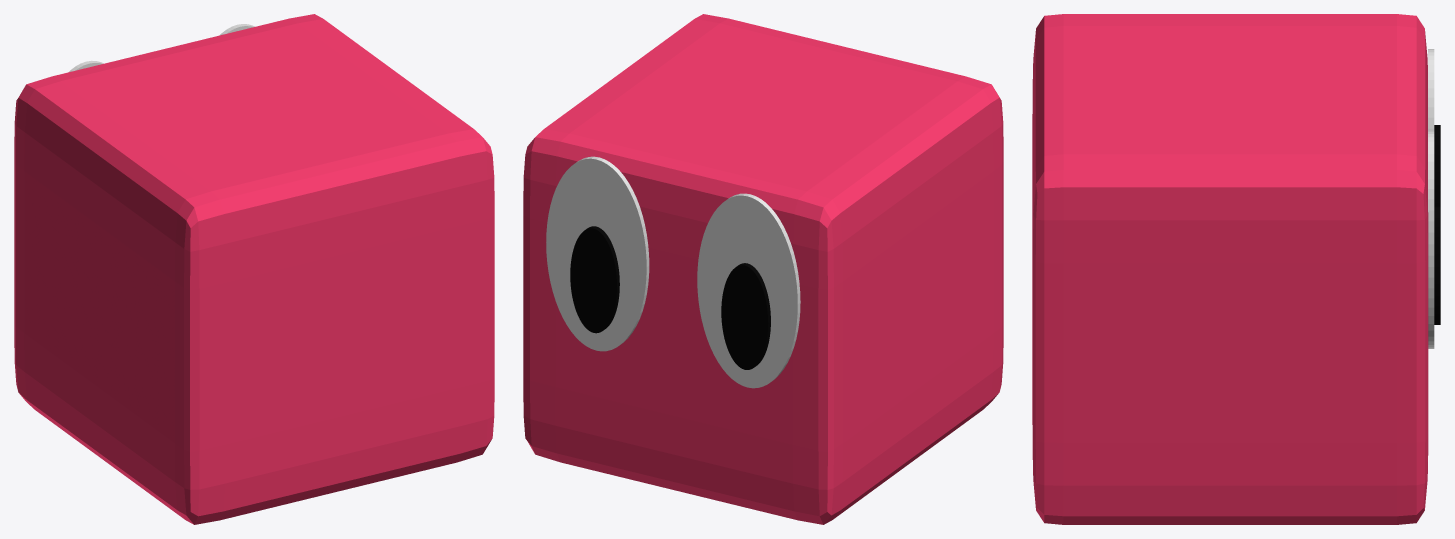
File: player-pink.glb
3 views of the same model, side by side, from view 1: azimuth 30°, elevation 25°; view 2: azimuth 150°, elevation 25°; view 3: azimuth 270°, elevation 25° (orthographic). The views are drawn at different scales.
Parts seen in each view (by area): view 1: player-body; view 2: player-body, player-eye-right-white, player-eye-right-white.001, player-eye-right-black, player-eye-right-black.001; view 3: player-body, player-eye-right-white, player-eye-right-black, player-eye-right-black.001, player-eye-right-white.001.
Boxes of the visible parts, left/top/right/bottom form: player-body: left=14, top=14, right=494, bottom=524; player-body: left=523, top=14, right=1003, bottom=524; player-eye-right-white: left=546, top=156, right=649, bottom=351; player-eye-right-white.001: left=697, top=193, right=800, bottom=388; player-eye-right-black: left=570, top=226, right=619, bottom=333; player-eye-right-black.001: left=721, top=263, right=770, bottom=369; player-body: left=1032, top=14, right=1428, bottom=524; player-eye-right-white: left=1428, top=130, right=1434, bottom=348; player-eye-right-black: left=1434, top=206, right=1440, bottom=324; player-eye-right-black.001: left=1434, top=125, right=1440, bottom=206; player-eye-right-white.001: left=1428, top=49, right=1434, bottom=130.
Bounding box in the file's own units: 0.4 × 0.4 × 0.4122.
